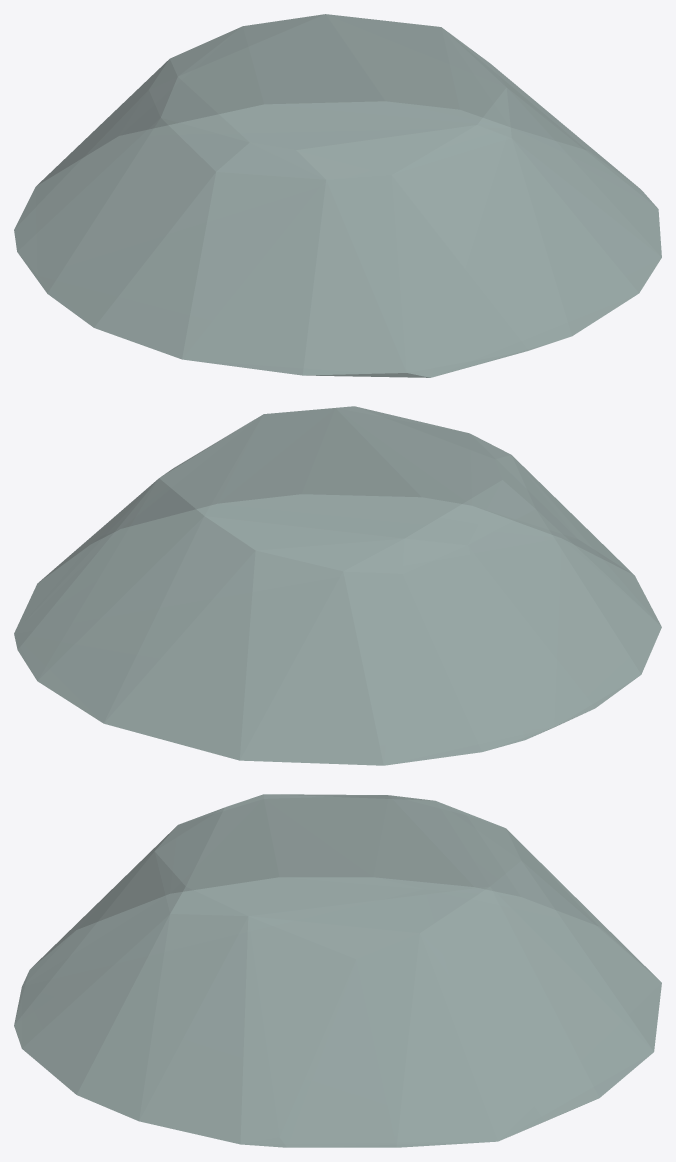
3 renders of one model, top to bottom at view 1: azimuth 30°, elevation 25°; view 2: azimuth 150°, elevation 25°; view 3: azimuth 270°, elevation 25°, orthographic.
Visible parts, largest first — view 1: Shape_IndexedFaceSet.010_Shape_IndexedFaceSet.10645; view 2: Shape_IndexedFaceSet.010_Shape_IndexedFaceSet.10645; view 3: Shape_IndexedFaceSet.010_Shape_IndexedFaceSet.10645.
Boxes of the visible parts, <box> form: Shape_IndexedFaceSet.010_Shape_IndexedFaceSet.10645: <box>14,14,661,377</box>; Shape_IndexedFaceSet.010_Shape_IndexedFaceSet.10645: <box>14,406,661,765</box>; Shape_IndexedFaceSet.010_Shape_IndexedFaceSet.10645: <box>14,794,661,1147</box>.
Bounding box in the file's own units: 0.2035 × 0.0571 × 0.2059.
